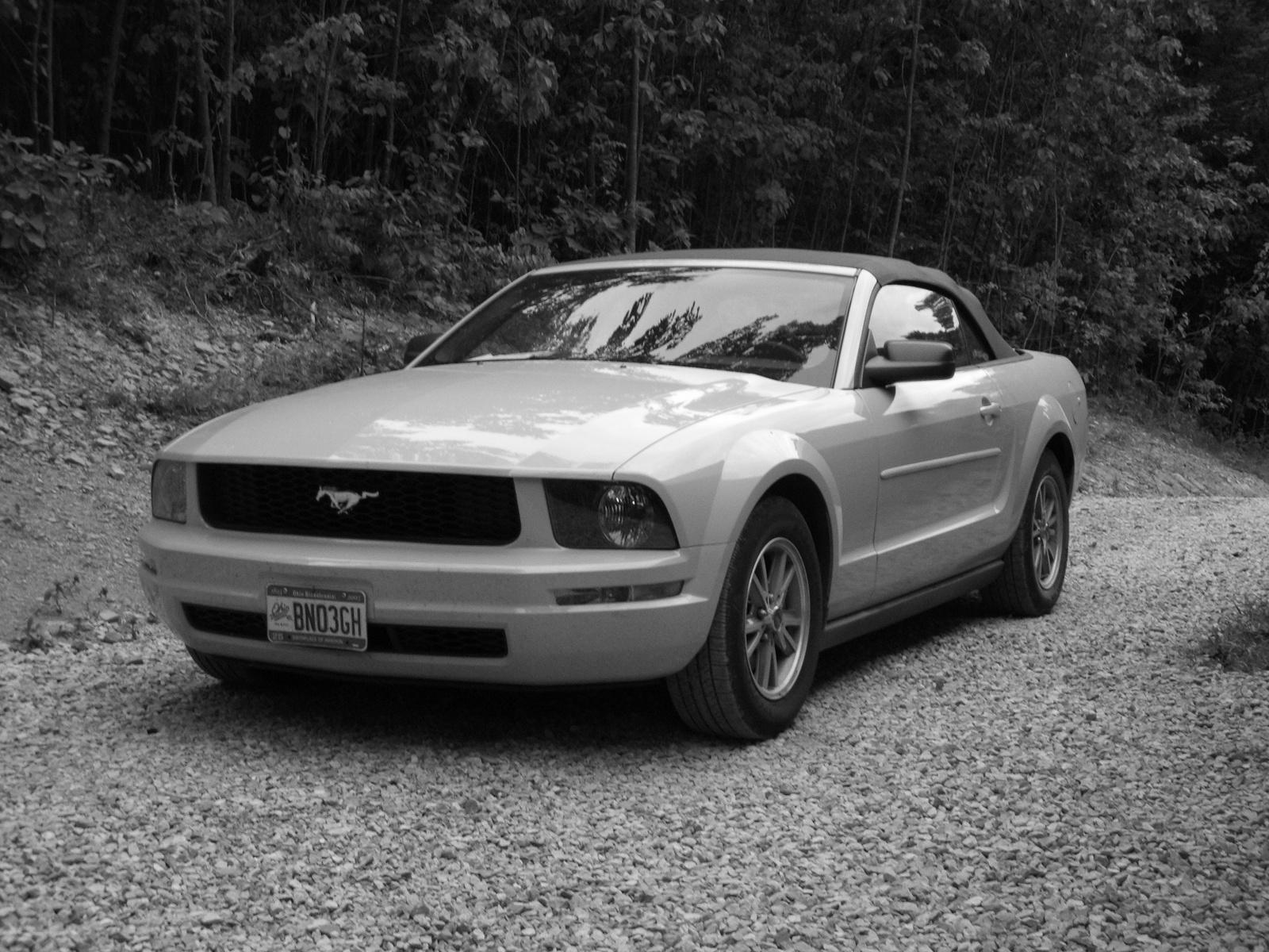car: (148, 244, 1100, 748)
